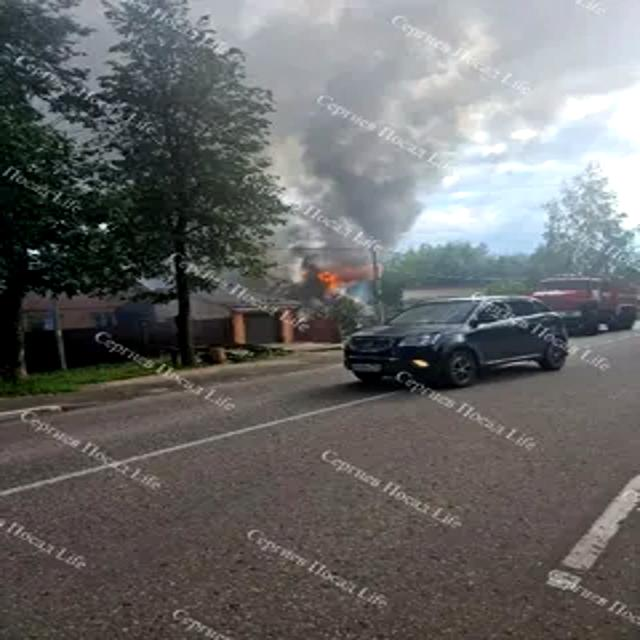Smoke: (280, 1, 456, 278)
